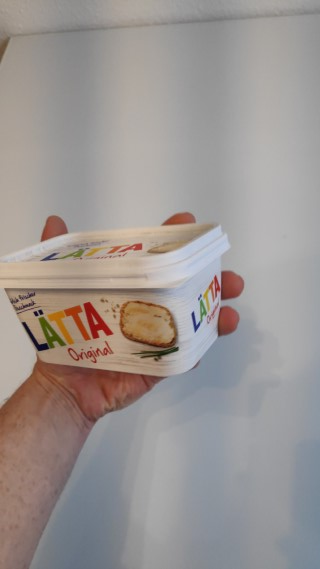laetta: (1, 220, 232, 378)
